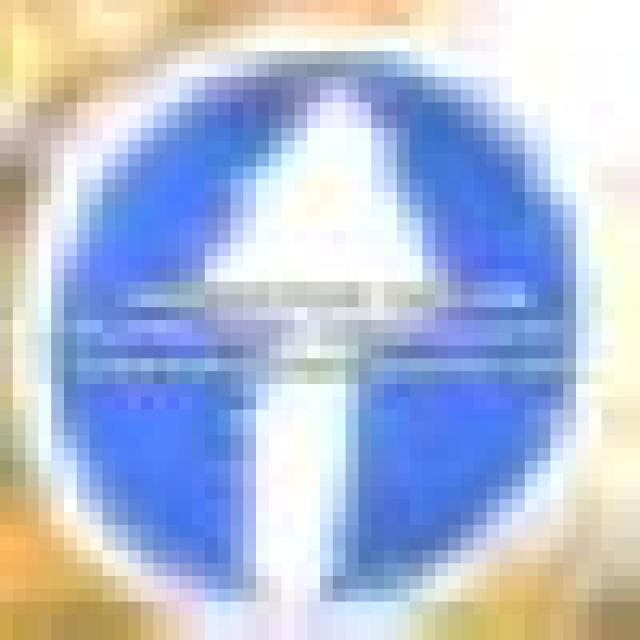COMPULSORY_AHEAD: (27, 50, 588, 624)
